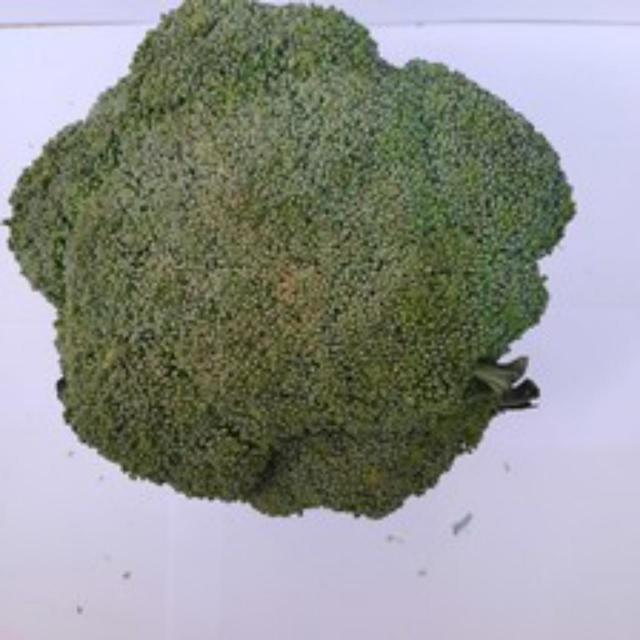broccoli: (1, 0, 624, 525)
